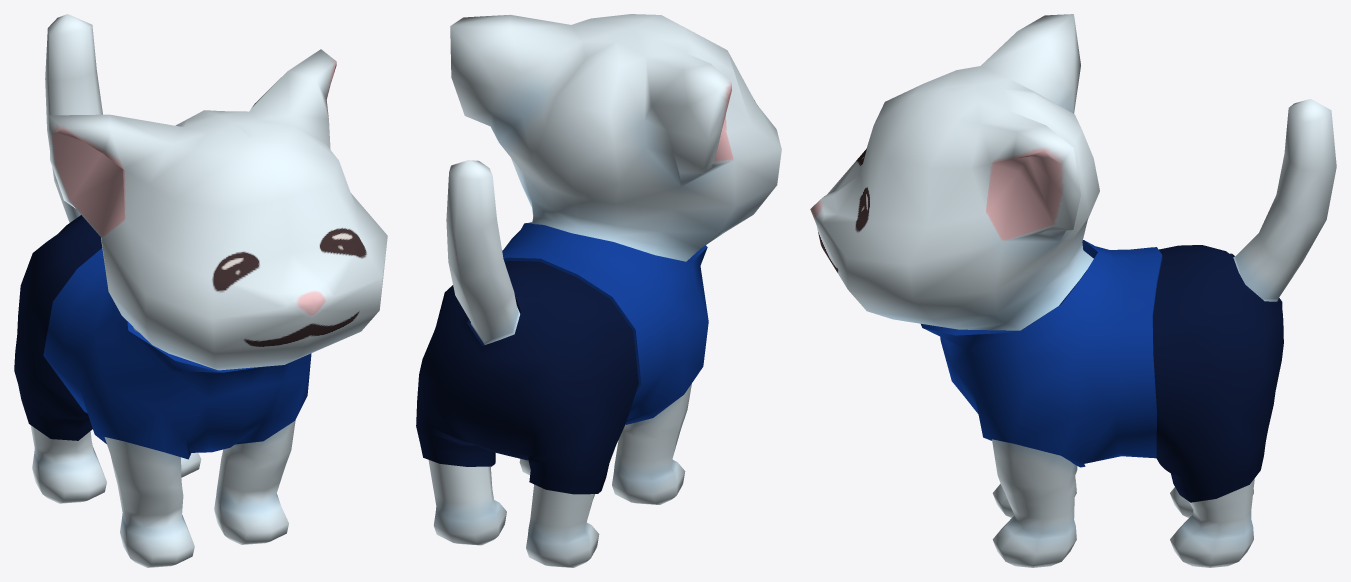
The model's file is Athlete Cat05.fbx.
3 views of the same model, side by side, from view 1: azimuth 30°, elevation 25°; view 2: azimuth 150°, elevation 25°; view 3: azimuth 270°, elevation 25° (orthographic). The views are drawn at different scales.
Visible parts, largest first — view 1: Cat_Base004, Athlete_Cat_Jersey, Athlete_Cat_Jersey_Shorts; view 2: Cat_Base004, Athlete_Cat_Jersey_Shorts, Athlete_Cat_Jersey; view 3: Cat_Base004, Athlete_Cat_Jersey, Athlete_Cat_Jersey_Shorts.
Boxes of the visible parts, bbox=[...] form: Cat_Base004: bbox=[30, 14, 387, 567]; Athlete_Cat_Jersey: bbox=[43, 248, 311, 459]; Athlete_Cat_Jersey_Shorts: bbox=[14, 215, 102, 440]; Cat_Base004: bbox=[428, 14, 781, 567]; Athlete_Cat_Jersey_Shorts: bbox=[416, 261, 638, 494]; Athlete_Cat_Jersey: bbox=[502, 222, 708, 424]; Cat_Base004: bbox=[810, 14, 1336, 567]; Athlete_Cat_Jersey: bbox=[921, 240, 1162, 467]; Athlete_Cat_Jersey_Shorts: bbox=[1153, 245, 1283, 502].
Bounding box in the file's own units: 1.75 × 2.83 × 2.68.
3 materials, 1 textured.
